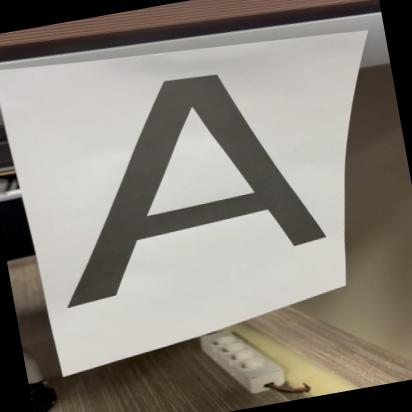seat: (28, 48, 347, 324)
